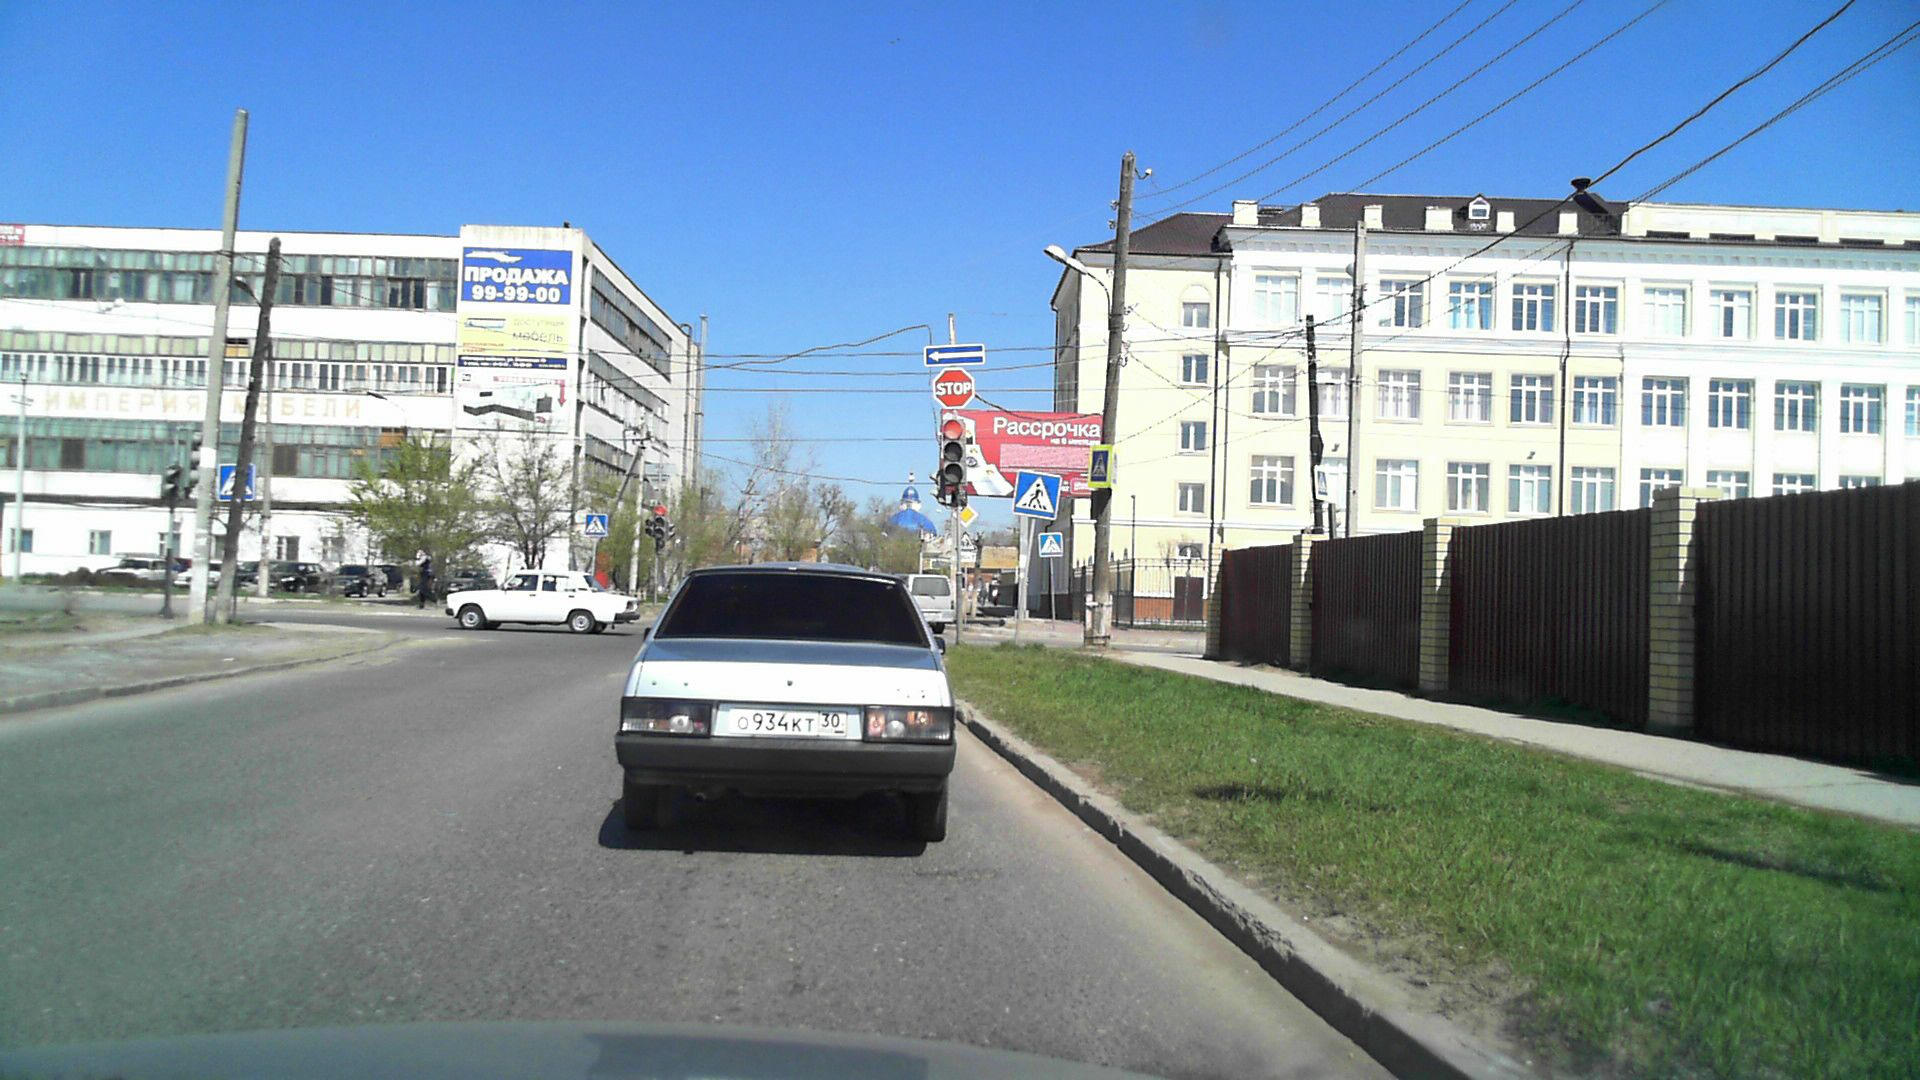One-Way Traffic: (923, 345, 984, 365)
Pedestrian Crossing: (1015, 471, 1058, 520)
